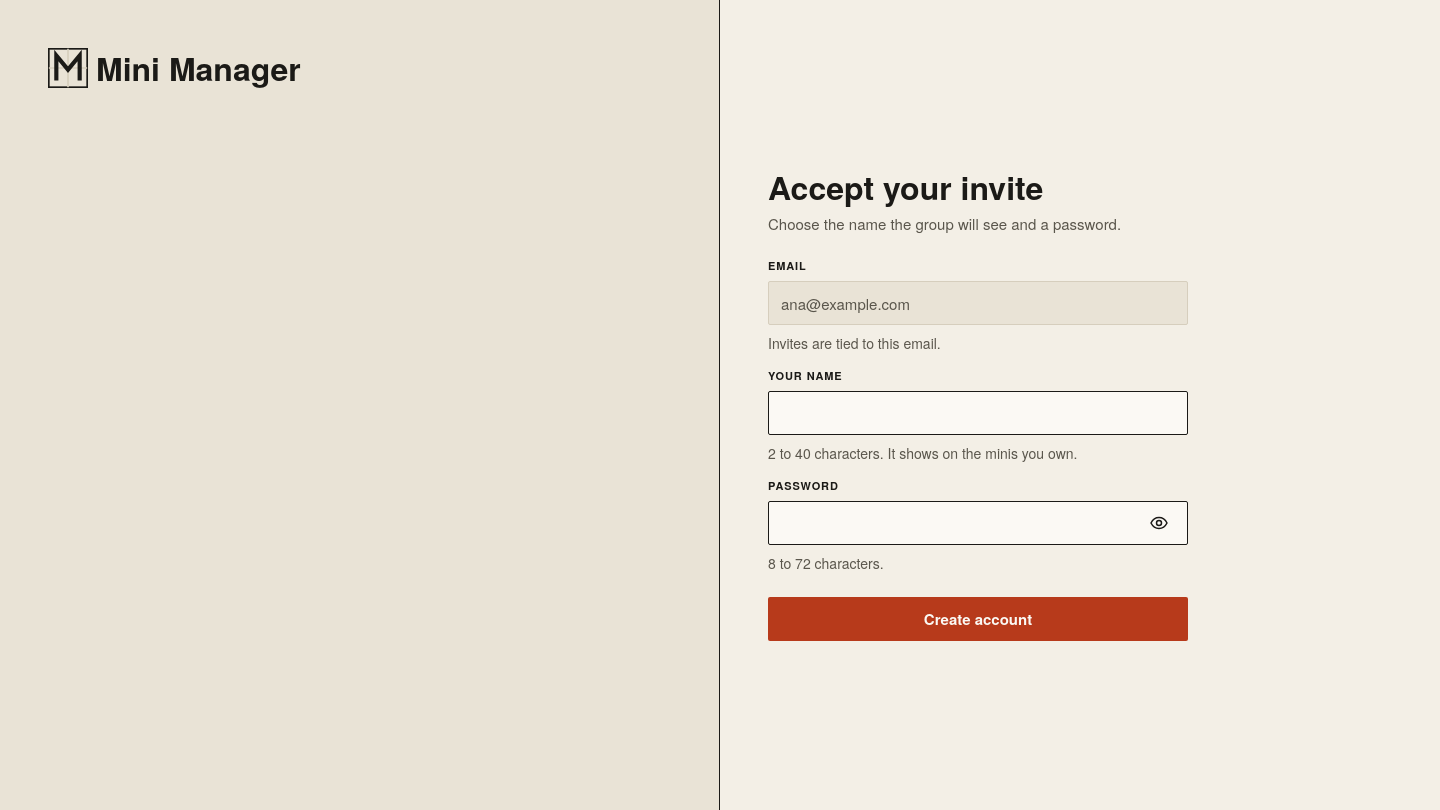
AcceptInvitePage › card 3 rule 5: a name already in use shows under the name field
Type "Mateus" into the field labelled "Your name" at point(978, 413), box x1=781 y1=392 x2=1175 y2=434
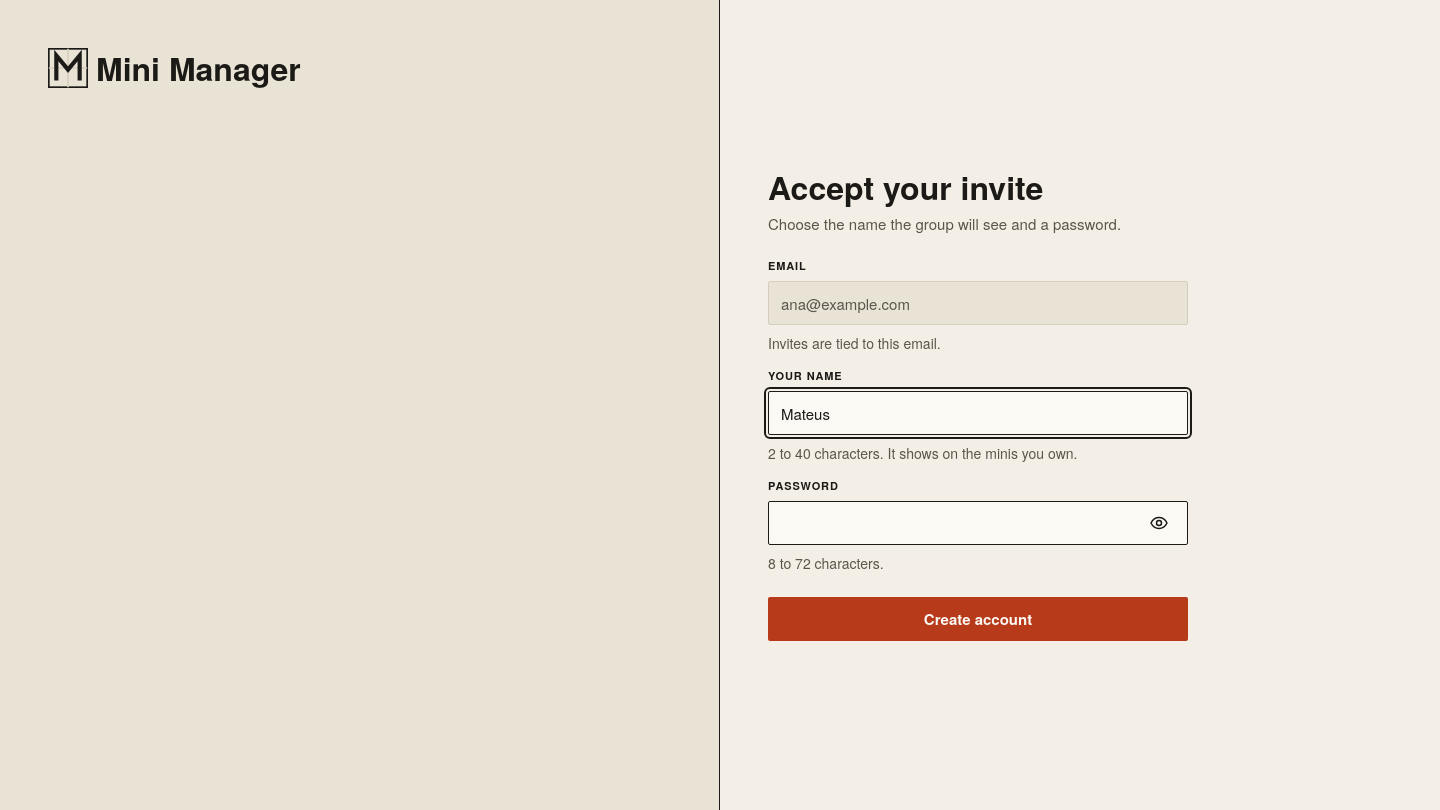
Type "a good password" into the password field labelled "Password" at point(958, 523), box x1=781 y1=502 x2=1135 y2=544
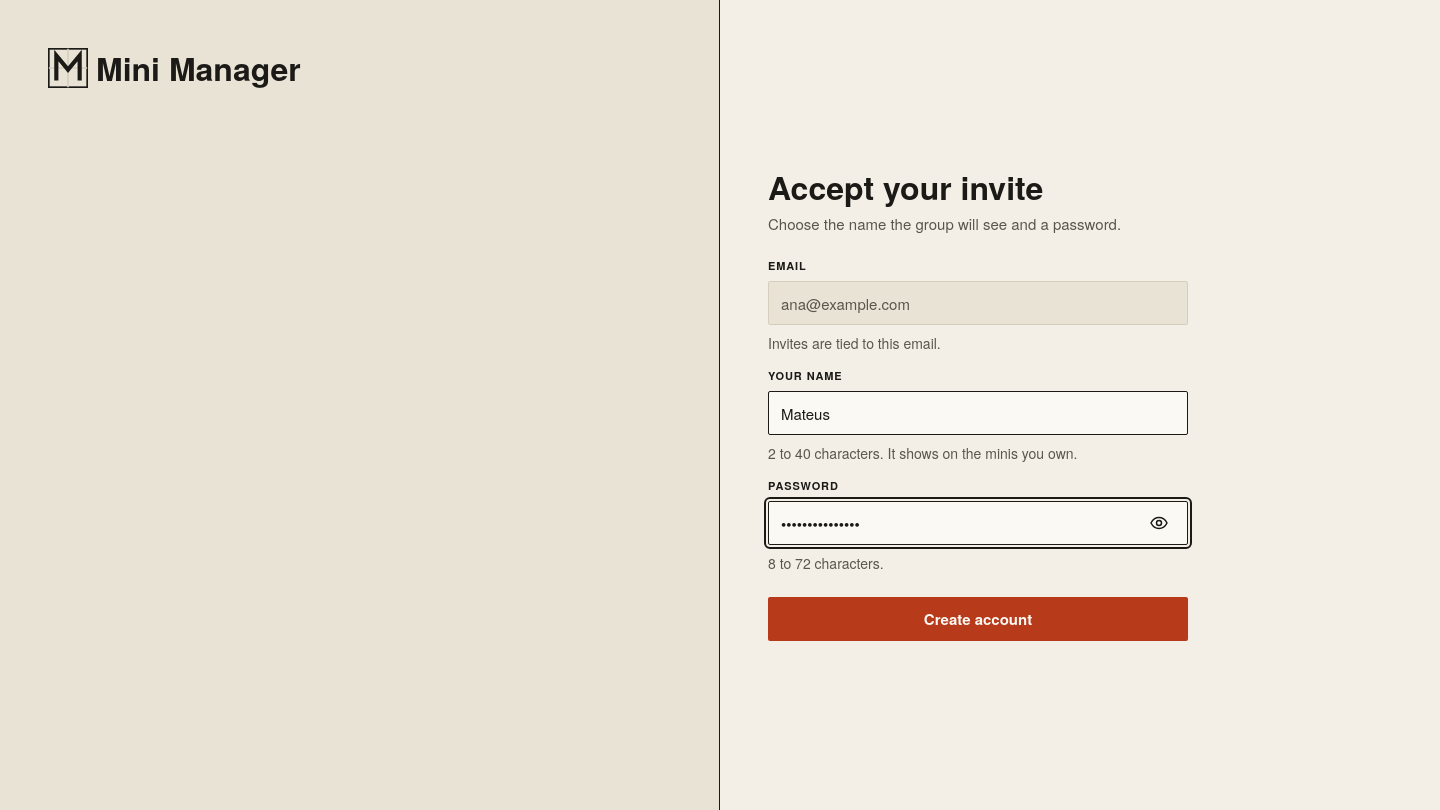
Click the button "Create account" at point(978, 619), box x1=768 y1=597 x2=1188 y2=641
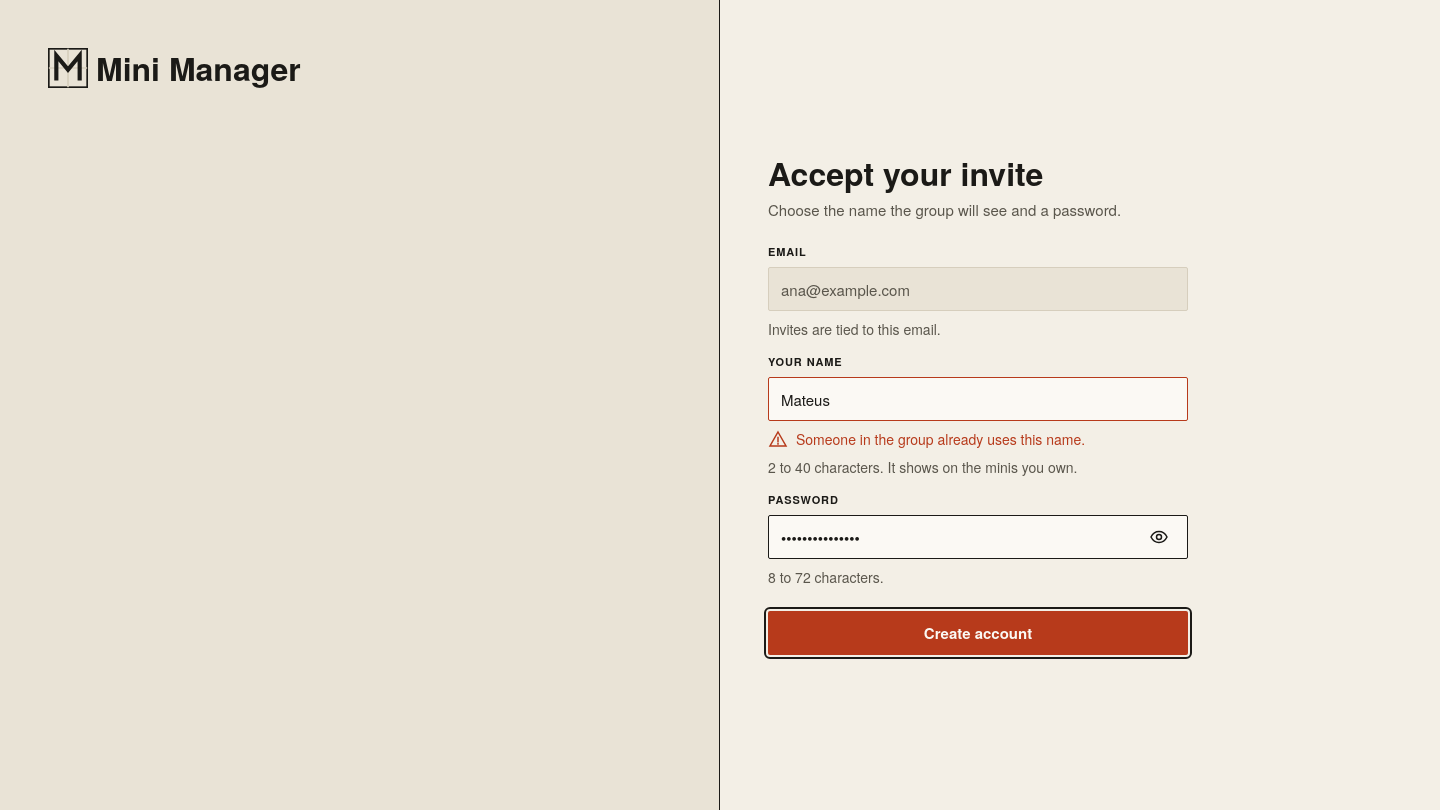
Now the text "Someone in the group already uses this name." is shown, box x1=796 y1=429 x2=1085 y2=449
